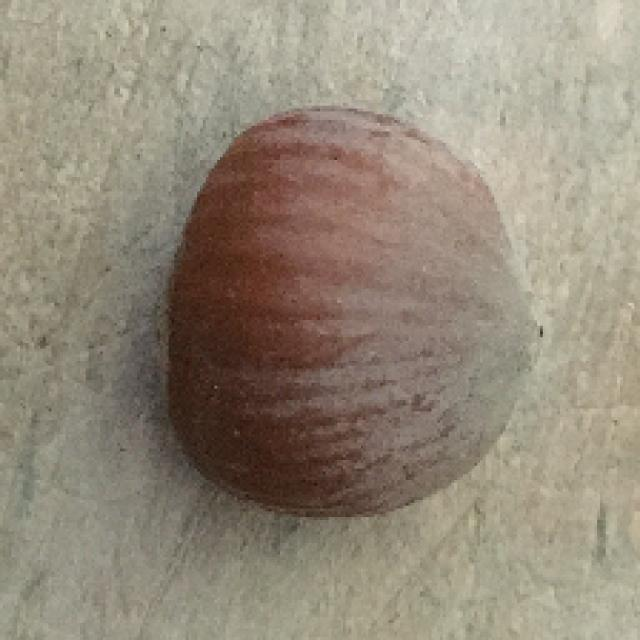qualityHazelnut: (143, 102, 554, 529)
